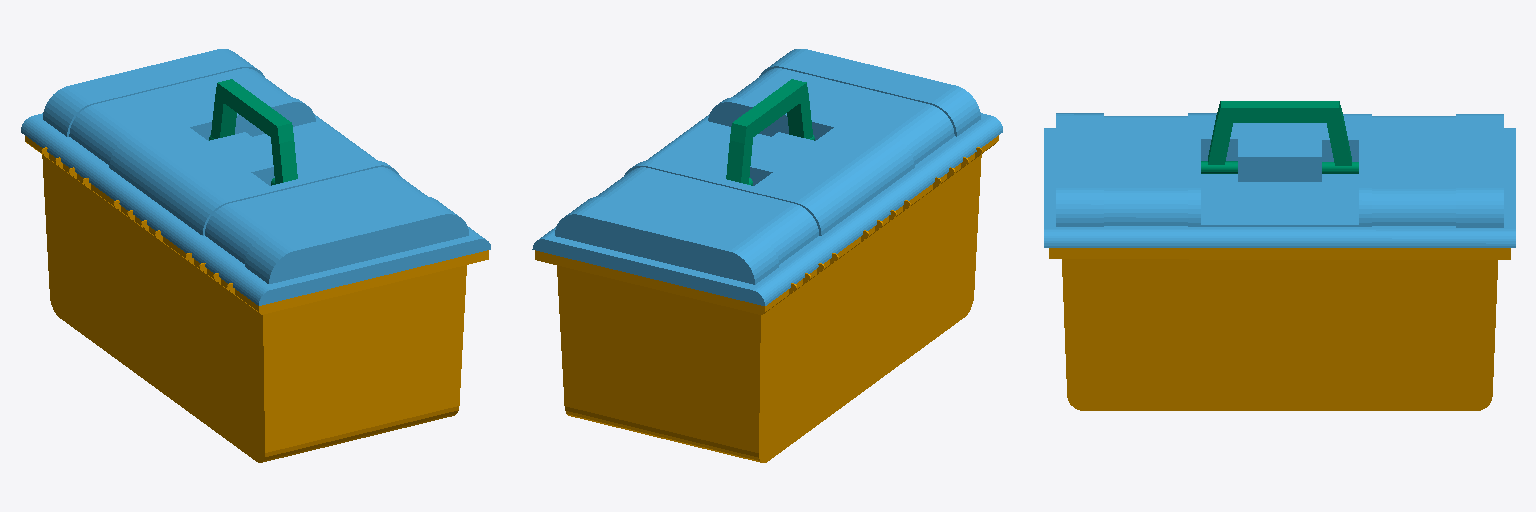
URDF robot description (crate):
<?xml version="1.0"?>
<robot name="crate" xmlns:xacro="http://ros.org/wiki/xacro">
    <link name="base_link">
        <visual>
            <origin xyz="0 0 0" rpy="1.57 0 0"/>
            <geometry>
                <mesh filename="package://object_manipulation_planner/meshes/crate_base.obj" scale="0.01 0.01 0.01"/>
            </geometry>
        </visual>
        <collision>
            <origin xyz="0 0 0" rpy="1.57 0 0"/>
            <geometry>
                <mesh filename="package://object_manipulation_planner/meshes/crate_base.obj" scale="0.01 0.01 0.01"/>
            </geometry>
        </collision>
    </link>

    <joint name="lid_joint" type="revolute">
        <parent link="base_link"/>
        <child link="lid"/>
        <origin xyz="-0.157 0 0.12" rpy="0 0 0"/>
        <axis xyz="0 1 0"/>
        <limit lower="-3.6651914291881" upper="0.0" velocity="0" effort="0"/>
    </joint>

    <link name="lid">
        <visual>
            <origin xyz="0.1587915 0 0.00852894" rpy="1.57 0 0"/>
            <geometry>
                <mesh filename="package://object_manipulation_planner/meshes/crate_lid.obj" scale="0.01 0.01 0.01"/>
            </geometry>
        </visual>
        <collision>
            <origin xyz="0.1587915 0 0.00852894" rpy="1.57 0 0"/>
            <geometry>
                <mesh filename="package://object_manipulation_planner/meshes/crate_lid.obj" scale="0.01 0.01 0.01"/>
            </geometry>
        </collision>
    </link>

    <joint name="handle_joint" type="revolute">
        <parent link="lid"/>
        <child link="handle"/>
        <origin xyz="0.157 0.0 0.0309377" rpy="0 0 0"/>
        <axis xyz="0 1 0"/>
        <limit lower="-0.087266462599716" upper="1.57" velocity="0" effort="0"/>
    </joint>

    <link name="handle">
        <visual>
            <origin xyz="0 0 0.0375" rpy="1.57 0 0"/>
            <geometry>
                <mesh filename="package://object_manipulation_planner/meshes/crate_handle.obj" scale="0.01 0.01 0.01"/>
            </geometry>
        </visual>
        <collision>
            <origin xyz="0 0 0.0375" rpy="1.57 0 0"/>
            <geometry>
                <mesh filename="package://object_manipulation_planner/meshes/crate_handle.obj" scale="0.01 0.01 0.01"/>
            </geometry>
        </collision>
    </link>
</robot>

--- What the picture shows (computed from the rendered views, not written in the file) ---
3 views of the same robot in one strip: view 1: azimuth 30°, elevation 25°; view 2: azimuth 150°, elevation 25°; view 3: azimuth 270°, elevation 25° (orthographic).
Model crate with 3 links and 2 joints (2 revolute), rooted at base_link, posed every joint at zero.
Visible links, largest first — view 1: base_link, lid, handle; view 2: base_link, lid, handle; view 3: base_link, lid, handle.
Boxes of the visible links, x1,y1,x2,y2 form: base_link: [25, 136, 488, 462]; lid: [21, 49, 490, 305]; handle: [209, 79, 297, 185]; base_link: [535, 135, 998, 462]; lid: [532, 49, 1002, 305]; handle: [726, 79, 814, 185]; base_link: [1049, 248, 1510, 410]; lid: [1044, 113, 1515, 247]; handle: [1201, 101, 1358, 173].
Size in the robot's own frame: 0.3203 by 0.555 by 0.3387 metres.
Meshes: 3 distinct files referenced, 3 mesh visuals loaded (3 OBJ).